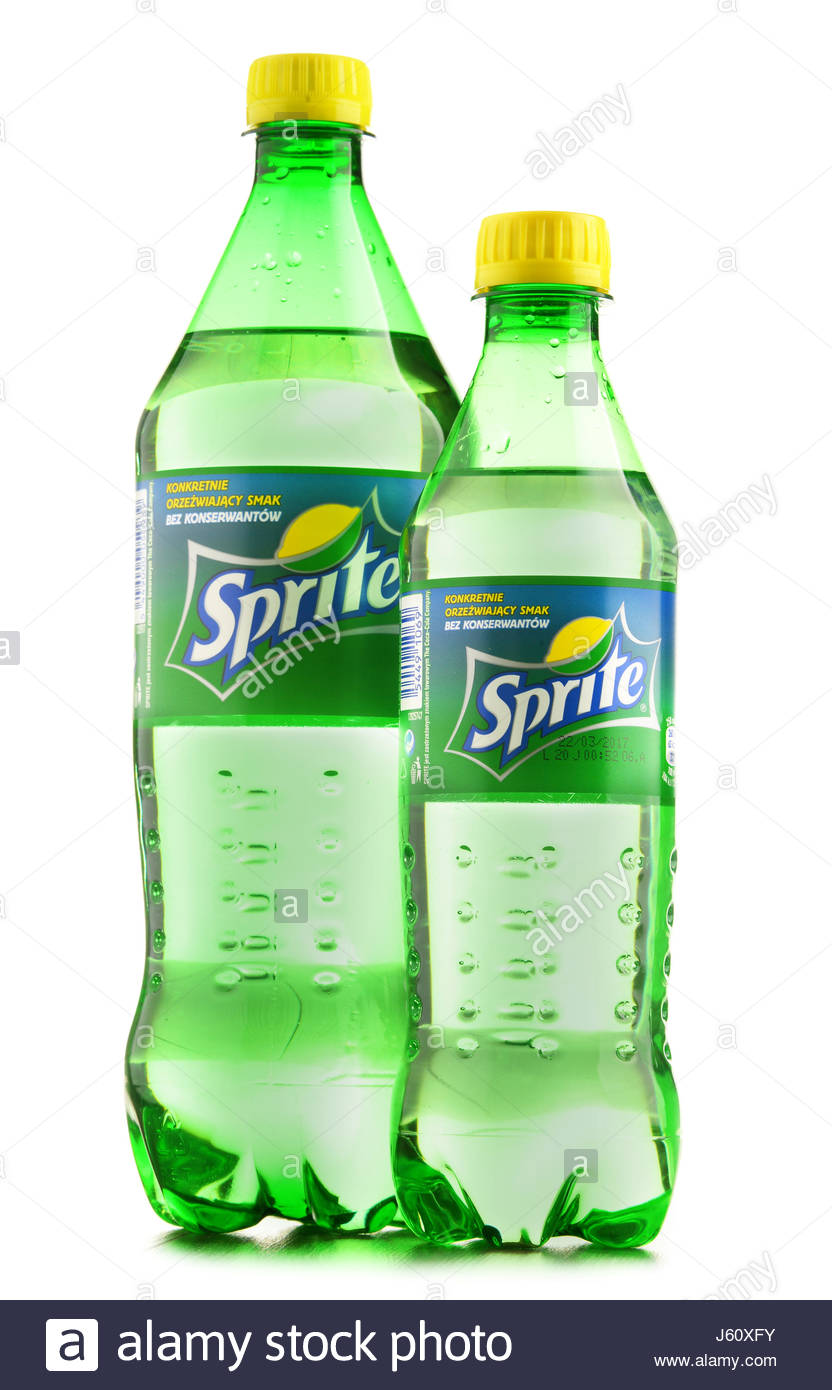sprite: (186, 527, 399, 675), (468, 642, 638, 761)
